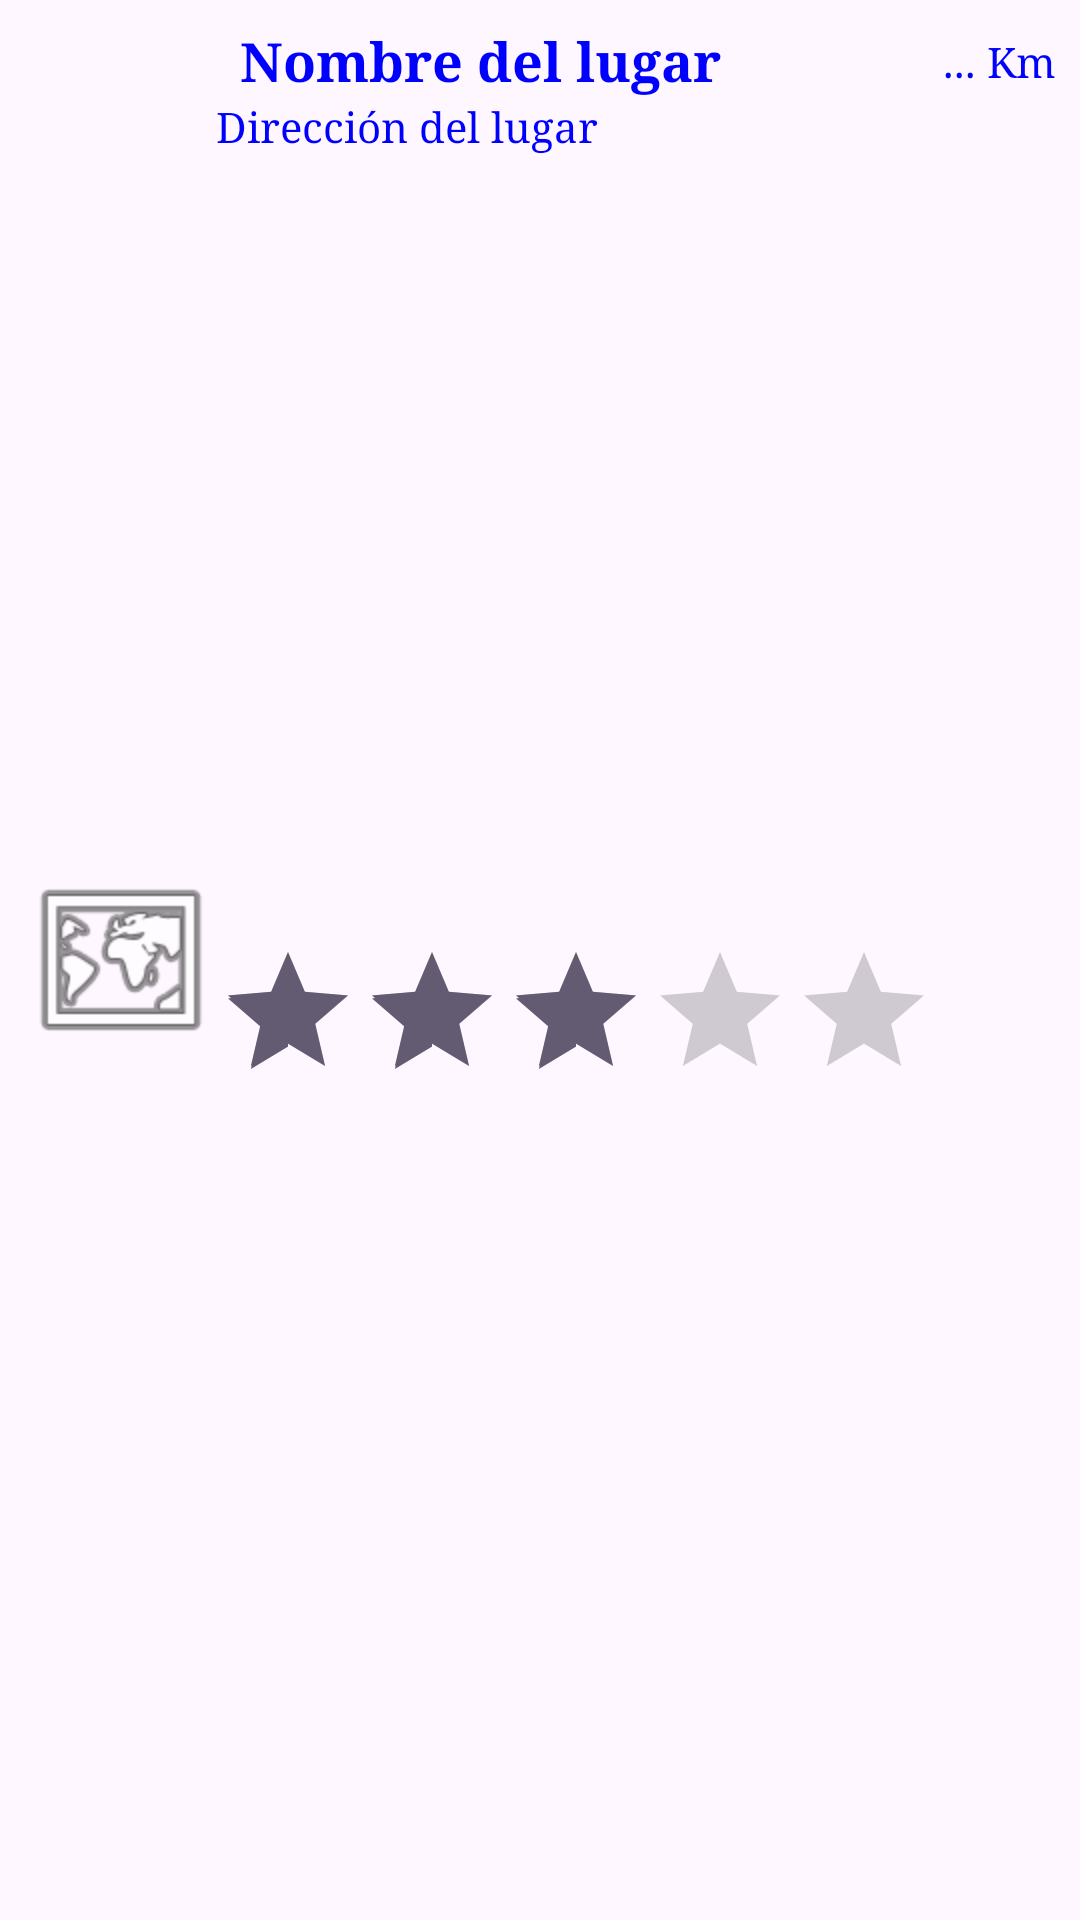

Icons on this 1080x1920 Android screen, each with its box as box(x1, y1, x2, y2):
descripcion foto: box(41, 889, 201, 1031)
